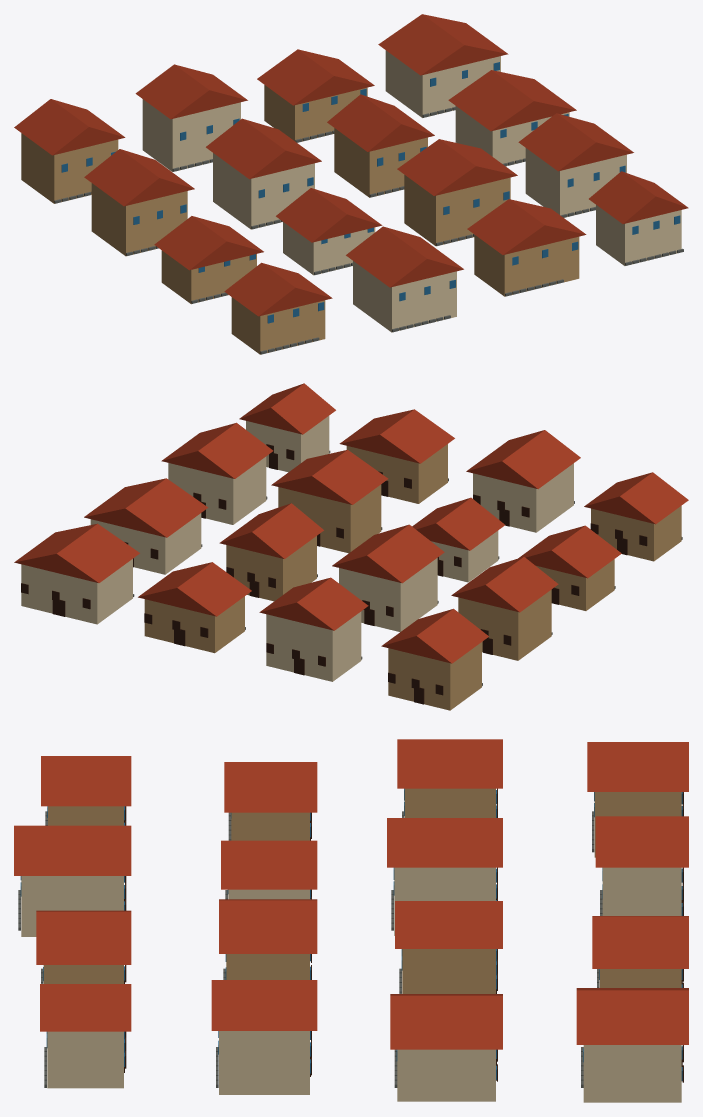
Rendered from village_house_collection.obj.
3 renders of one model, top to bottom at view 1: azimuth 30°, elevation 25°; view 2: azimuth 150°, elevation 25°; view 3: azimuth 270°, elevation 25°, orthographic. The views are drawn at different scales.
Visible parts, largest first — view 1: house_3_roof, house_7_roof, house_13_walls, house_10_walls, house_5_walls, house_4_walls, house_1_walls, house_14_walls, house_13_roof, house_10_roof, house_5_roof, house_14_roof (+20 smaller); view 2: house_1_walls, house_3_roof, house_3_walls, house_7_roof, house_0_walls, house_5_walls, house_13_walls, house_13_roof, house_10_walls, house_10_roof, house_5_roof, house_11_walls (+20 smaller); view 3: house_3_roof, house_7_roof, house_13_roof, house_11_walls, house_5_roof, house_3_walls, house_11_roof, house_10_roof, house_4_roof, house_14_roof, house_7_walls, house_6_roof (+20 smaller).
Part boxes in pixels (x1,y1,x2,y2): house_3_roof: (378,14,508,75); house_7_roof: (448,70,576,131); house_13_walls: (353,261,456,332); house_10_walls: (404,175,510,246); house_5_walls: (213,153,314,229); house_4_walls: (91,183,187,256); house_1_walls: (142,99,240,171); house_14_walls: (474,234,579,296); house_13_roof: (346,226,463,287); house_10_roof: (397,139,517,195); house_5_roof: (206,118,321,179); house_14_roof: (467,199,586,254); house_1_walls: (266,611,361,681); house_3_roof: (14,523,139,582); house_3_walls: (21,559,132,624); house_7_roof: (84,478,208,537); house_0_walls: (388,642,481,710); house_5_walls: (339,558,437,631); house_13_walls: (473,463,573,532); house_13_roof: (466,430,580,488); house_10_walls: (278,484,381,553); house_10_roof: (271,449,388,504); house_5_roof: (332,524,444,583); house_11_walls: (168,456,266,524); house_3_roof: (576,988,688,1044); house_7_roof: (390,994,502,1049); house_13_roof: (14,825,131,875); house_11_walls: (219,1031,309,1094); house_5_roof: (387,818,502,867); house_3_walls: (583,1045,681,1102); house_11_roof: (211,980,317,1030); house_10_roof: (219,899,317,953); house_4_roof: (397,739,502,788); house_14_roof: (36,910,131,964); house_7_walls: (397,1049,495,1101); house_6_roof: (395,901,502,948).
Size of the model in its own units: 67.05 by 10.72 by 65.36.
